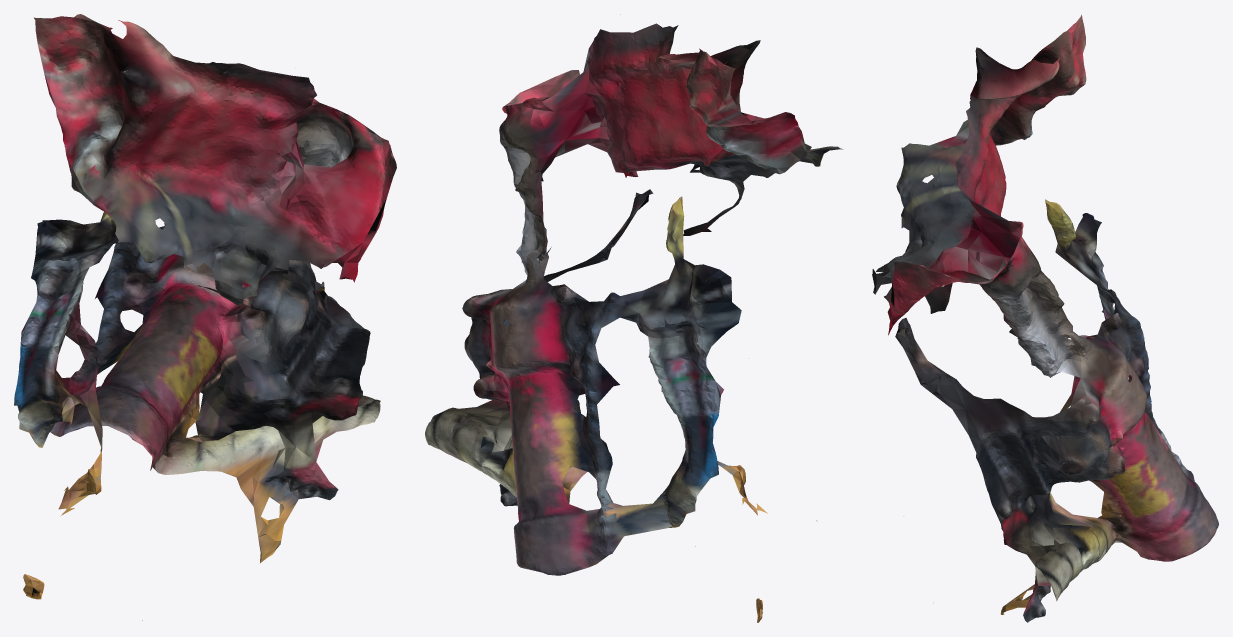
The model's file is texturedMesh.obj.
3 renders of one model, left to right at view 1: azimuth 30°, elevation 25°; view 2: azimuth 150°, elevation 25°; view 3: azimuth 270°, elevation 25°, orthographic. The views are drawn at different scales.
Parts seen in each view (by area): view 1: TexturedMesh; view 2: TexturedMesh; view 3: TexturedMesh.
Boxes of the visible parts, x1,y1,x2,y2 form: TexturedMesh: [14, 14, 396, 620]; TexturedMesh: [425, 14, 843, 622]; TexturedMesh: [872, 14, 1218, 622].
Bounding box in the file's own units: 1.21 × 1.9 × 1.12.
Materials: 1 (1 with a texture image).
